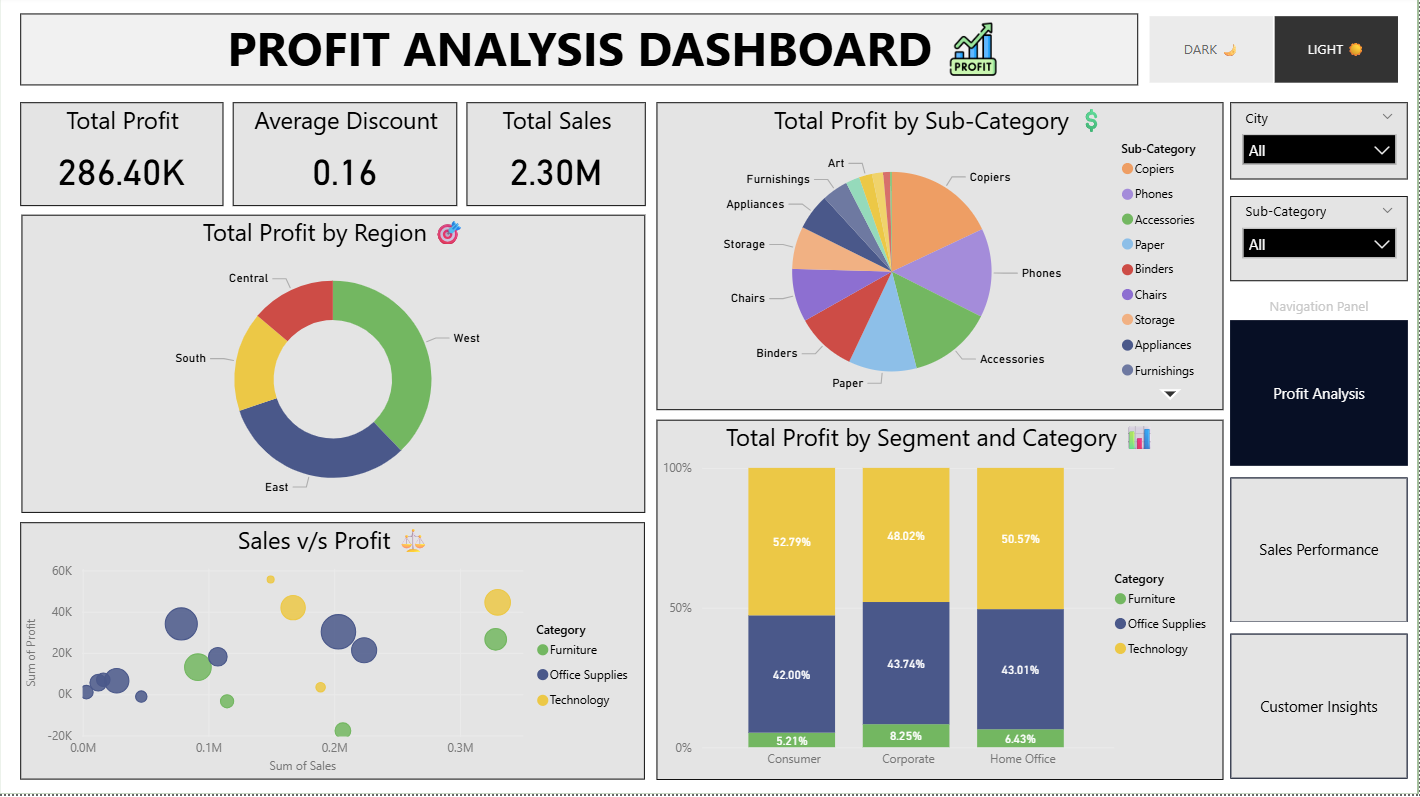

This screenshot's page, from the dashboard's own definition file:
{"tool":"powerbi","page":{"name":"Profit Analysis","canvas":[1280,720],"ordinal":0},"visuals":[{"type":"shape","box":[0,0,1280,720.3],"z":0},{"type":"card","title":"Total Profit","fields":{"Values":["Sum(SalesData.Profit)"]},"box":[18.7,95.8,182.9,93.3],"z":1000},{"type":"card","title":"Average Discount","fields":{"Values":["Avg(SalesData.Discount)"]},"box":[210.2,95.8,202.8,93.3],"z":2000},{"type":"card","title":"Total Sales","fields":{"Values":["Sum(SalesData.Sales)"]},"box":[421.7,95.8,161.7,93.3],"z":3000},{"type":"pieChart","title":"Total Profit by Sub-Category 💲","fields":{"Y":["Sum(SalesData.Profit)"],"Category":["SalesData.Sub-Category"]},"box":[593.4,95.8,511.3,277.4],"z":4000},{"type":"donutChart","title":"Total Profit by Region 🎯","fields":{"Y":["Sum(SalesData.Profit)"],"Category":["SalesData.Region"]},"box":[19.9,197.8,562.3,268.7],"z":5000},{"type":"hundredPercentStackedColumnChart","title":"Total Profit by Segment and Category 📊","fields":{"Y":["Sum(SalesData.Profit)"],"Category":["SalesData.Segment"],"Series":["SalesData.Category"]},"box":[593.4,381.9,511.3,324.7],"z":6000},{"type":"slicer","fields":{"Values":["Theme.Theme"]},"box":[1016.3,16.2,263.7,64.7],"z":7000},{"type":"scatterChart","title":"Sales v/s Profit ⚖️","fields":{"X":["Sum(SalesData.Sales)"],"Y":["Sum(SalesData.Profit)"],"Series":["SalesData.Category"],"Category":["SalesData.Sub-Category"],"Size":["Sum(SalesData.Quantity)"]},"box":[19.2,474.5,563.6,232.2],"z":8000},{"type":"textbox","title":"PROFIT ANALYSIS DASHBOARD","box":[18.7,16.2,1007.6,64.7],"z":9000},{"type":"pageNavigator","title":"Navigation Panel","box":[1110.2,271.6,160.1,435.1],"z":10000},{"type":"image","box":[840.1,19.2,77.9,57.6],"z":11000},{"type":"slicer","fields":{"Values":["SalesData.City"]},"box":[1110.2,95.8,160.1,69.9],"z":11001},{"type":"slicer","fields":{"Values":["SalesData.Sub-Category"]},"box":[1110.2,180.3,160.1,76.6],"z":11002}]}

Visuals, with their boxes in screenshot pixels (x1, y1, x2, y2), scaled from the page's 1280x720 canvas onto the 1420x797 screenshot:
shape: <box>0,0,1419,796</box>
"Total Profit" card: <box>21,106,224,209</box>
"Average Discount" card: <box>233,106,458,209</box>
"Total Sales" card: <box>468,106,647,209</box>
"Total Profit by Sub-Category 💲" pieChart: <box>658,106,1226,413</box>
"Total Profit by Region 🎯" donutChart: <box>22,219,646,516</box>
"Total Profit by Segment and Category 📊" hundredPercentStackedColumnChart: <box>658,423,1226,782</box>
slicer - Theme.Theme: <box>1127,18,1419,90</box>
"Sales v/s Profit ⚖️" scatterChart: <box>21,525,647,782</box>
"PROFIT ANALYSIS DASHBOARD" textbox: <box>21,18,1139,90</box>
"Navigation Panel" pageNavigator: <box>1232,301,1409,782</box>
image: <box>932,21,1018,85</box>
slicer - SalesData.City: <box>1232,106,1409,183</box>
slicer - SalesData.Sub-Category: <box>1232,200,1409,284</box>
